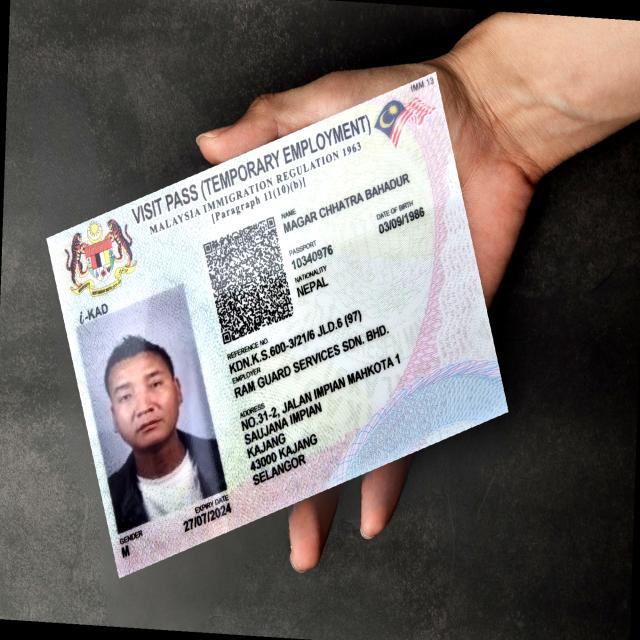ikad-temp: (45, 69, 509, 578)
